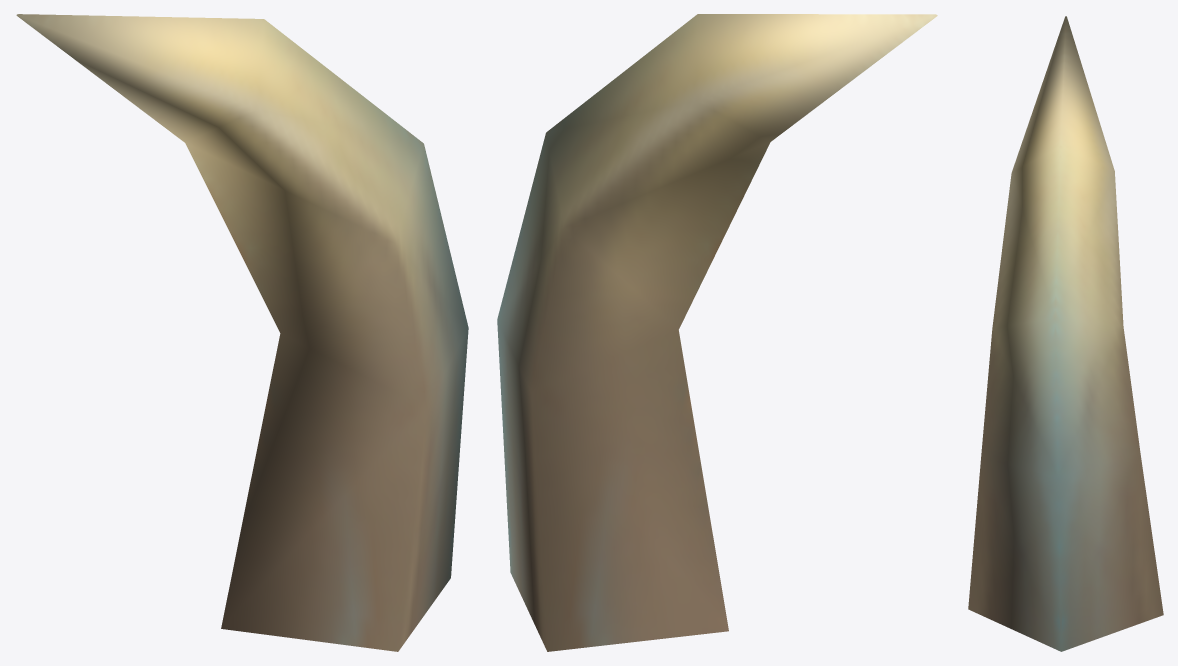
The model's file is Chapter1Scene1Model14.FBX.
3 renders of one model, left to right at view 1: azimuth 30°, elevation 25°; view 2: azimuth 150°, elevation 25°; view 3: azimuth 270°, elevation 25°, orthographic. The views are drawn at different scales.
Parts seen in each view (by area): view 1: Chapter1Scene1Model14; view 2: Chapter1Scene1Model14; view 3: Chapter1Scene1Model14.
Part boxes in pixels (left/top/right/bottom): Chapter1Scene1Model14: left=16, top=14, right=468, bottom=651; Chapter1Scene1Model14: left=497, top=14, right=937, bottom=651; Chapter1Scene1Model14: left=968, top=16, right=1163, bottom=651.
Bounding box in the file's own units: 40.41 × 21 × 57.56.
